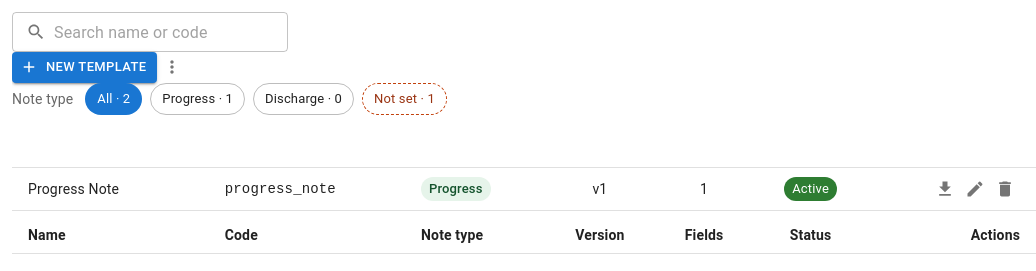
Test: list: search narrows by name or code
Expected: the text "Progress Note" is shown, [12,167,209,210]
In the field named "Search templates": (171,32) [54,12,288,52], type "wound"
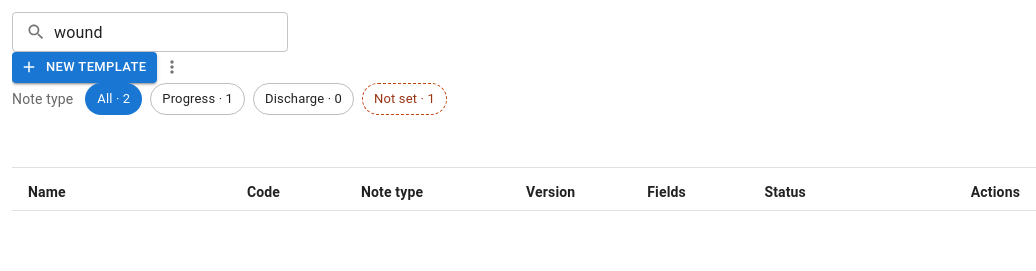
Expected: the text "Wound Care Note" is shown, [12,167,231,210]
Now the text "Progress Note" is gone
